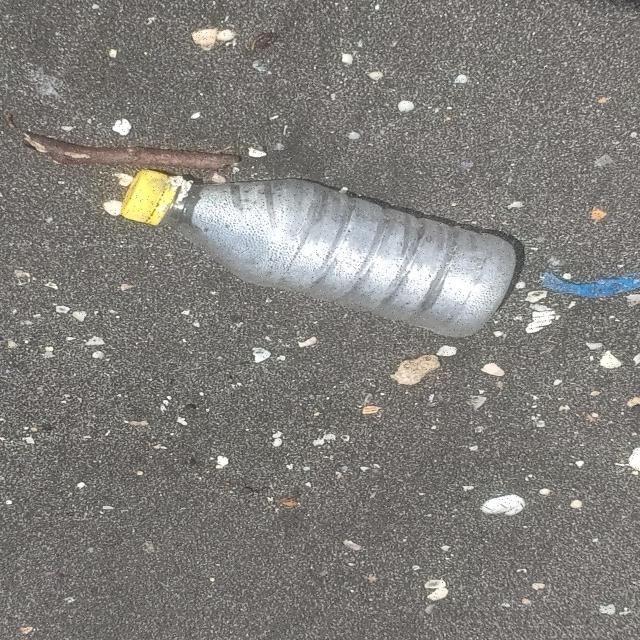plastic_waste: (119, 170, 519, 340)
